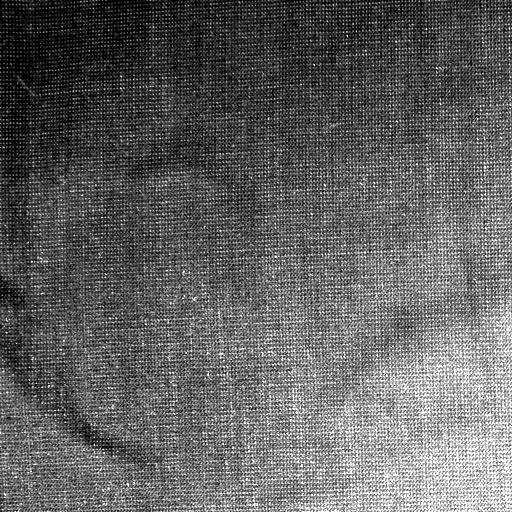fabric_perfect: (4, 0, 510, 512)
